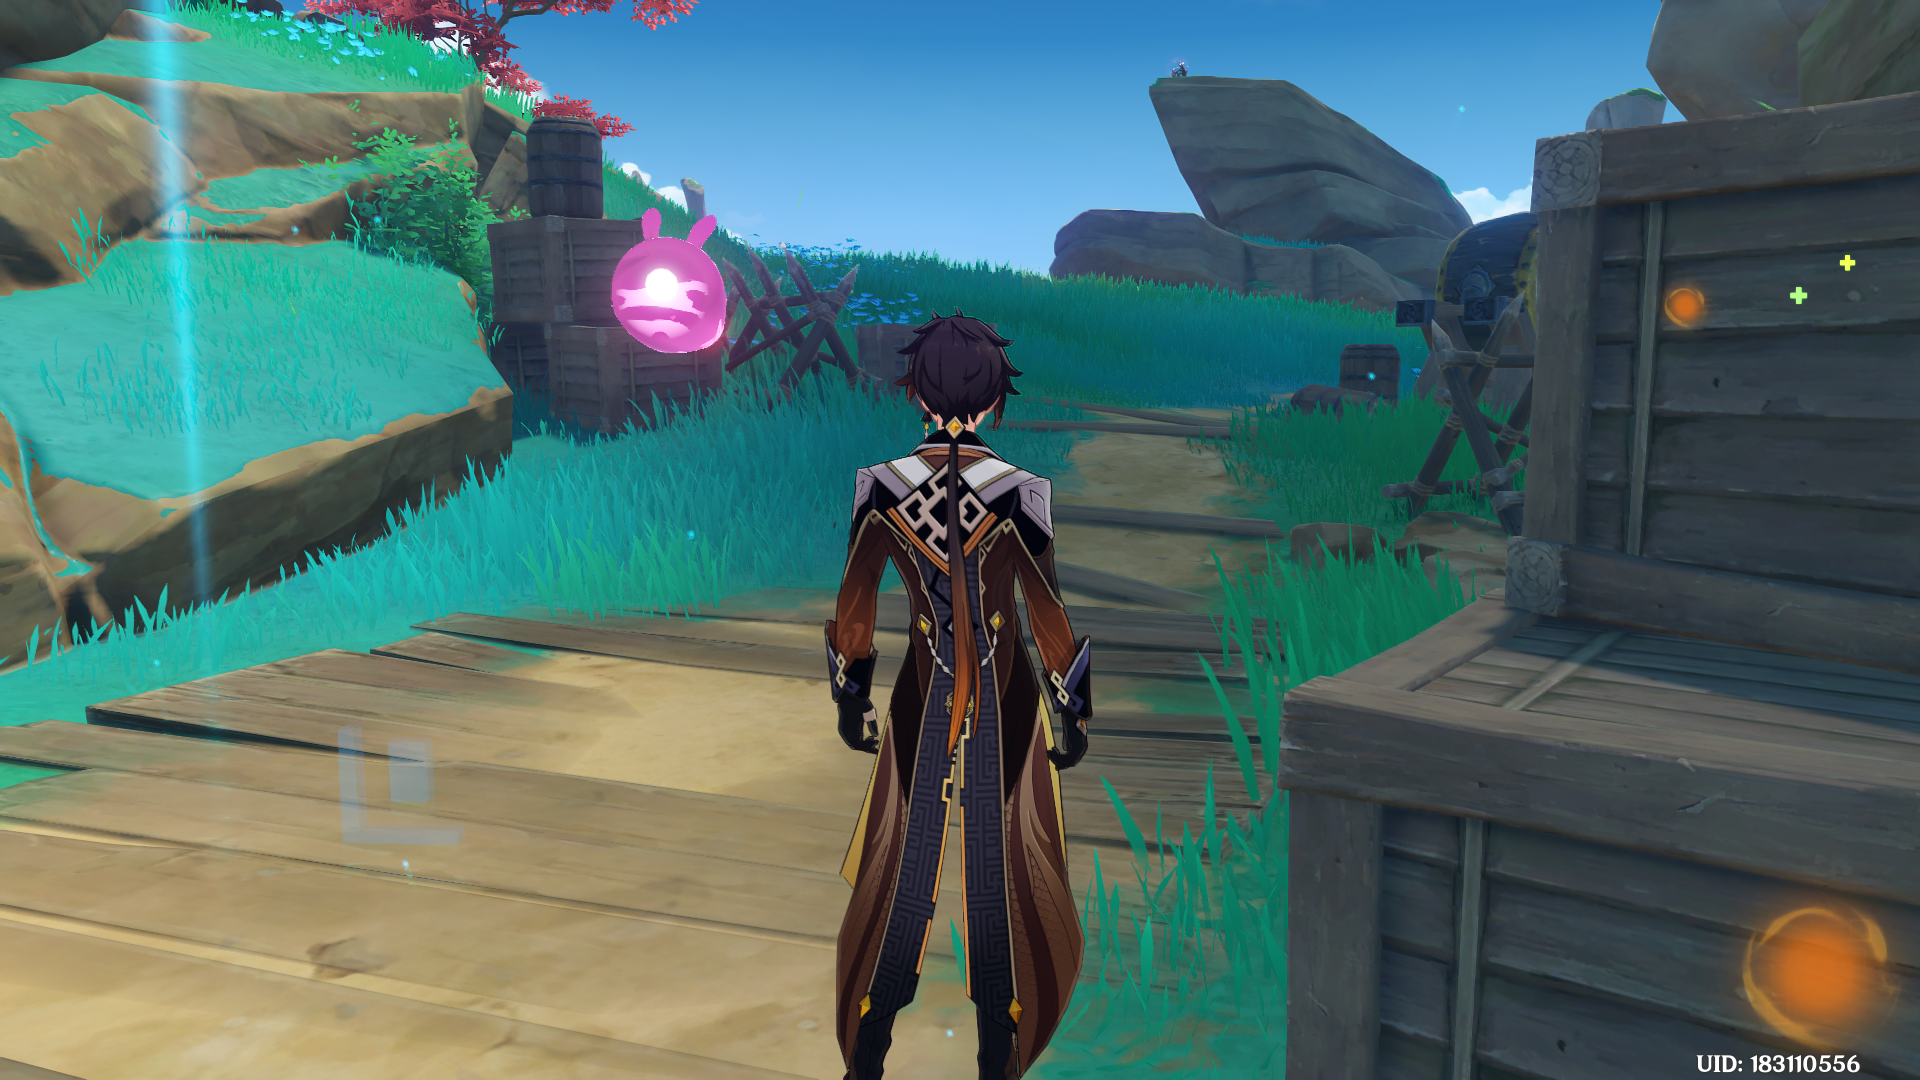character: (769, 284, 1156, 1080)
